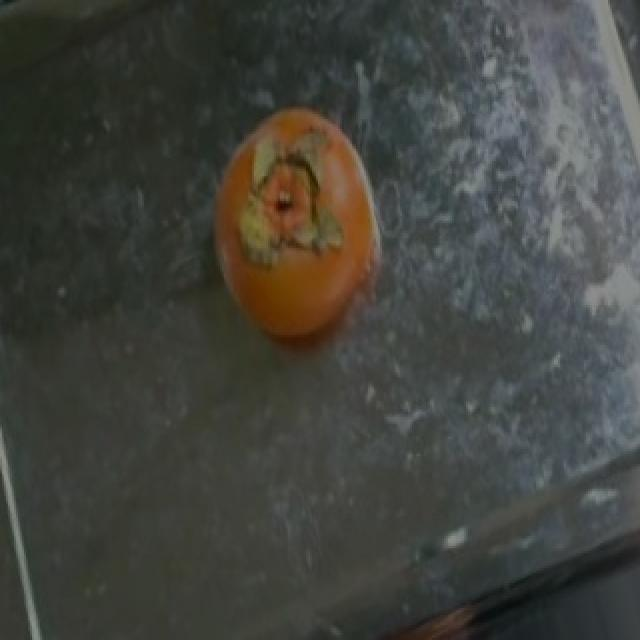Fruit: (180, 82, 410, 370)
